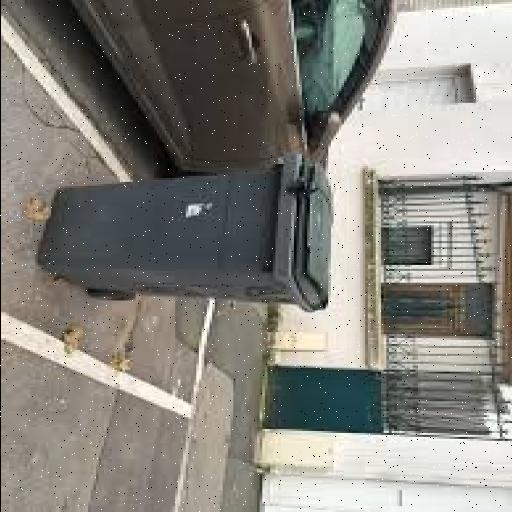poubelle_vide: (26, 148, 348, 344)
